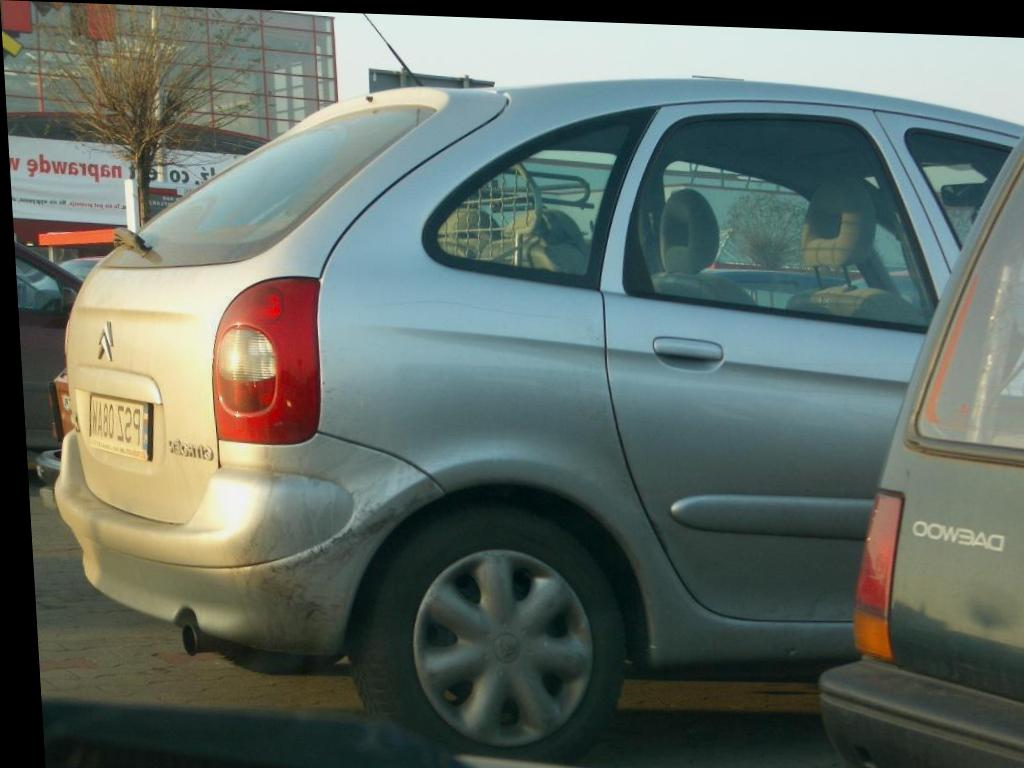License_Plate: (83, 392, 158, 465)
